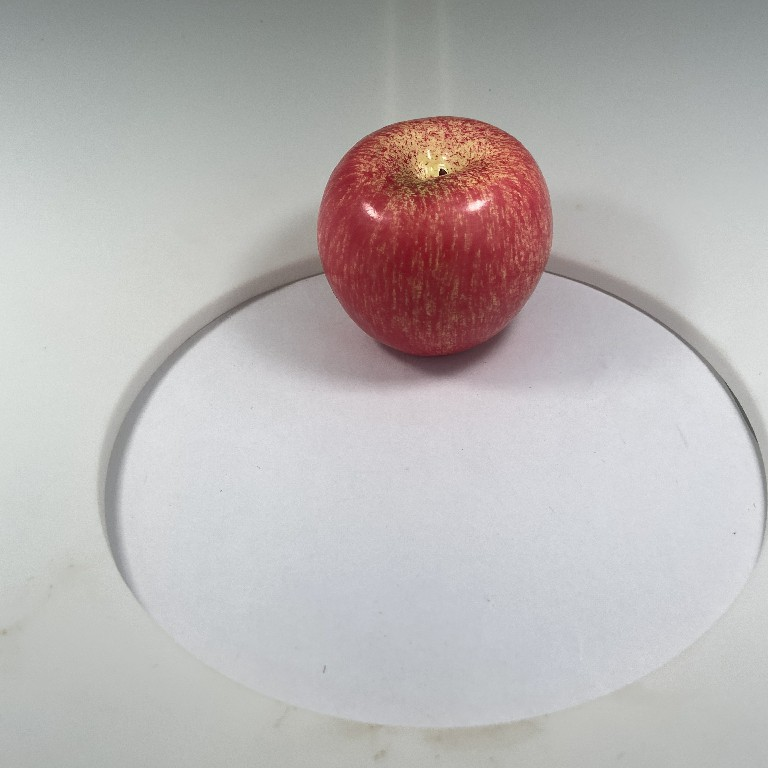fruit_apple: (313, 110, 564, 371)
